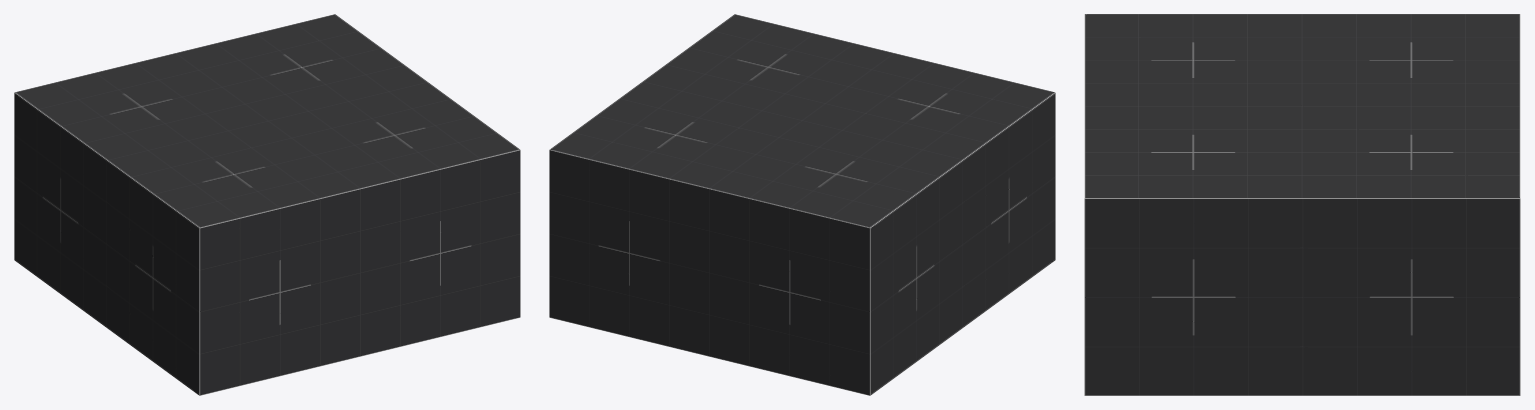
File: halfbox.glb
3 views of the same model, side by side, from view 1: azimuth 30°, elevation 25°; view 2: azimuth 150°, elevation 25°; view 3: azimuth 270°, elevation 25° (orthographic). The views are drawn at different scales.
Parts seen in each view (by area): view 1: HalfBox; view 2: HalfBox; view 3: HalfBox.
Part boxes in pixels (x1,y1,x2,y2): HalfBox: (14,14,520,395); HalfBox: (549,14,1055,395); HalfBox: (1084,14,1520,395).
Size of the model in its own units: 10 by 5 by 10.
Materials: 1 (1 with a texture image).
